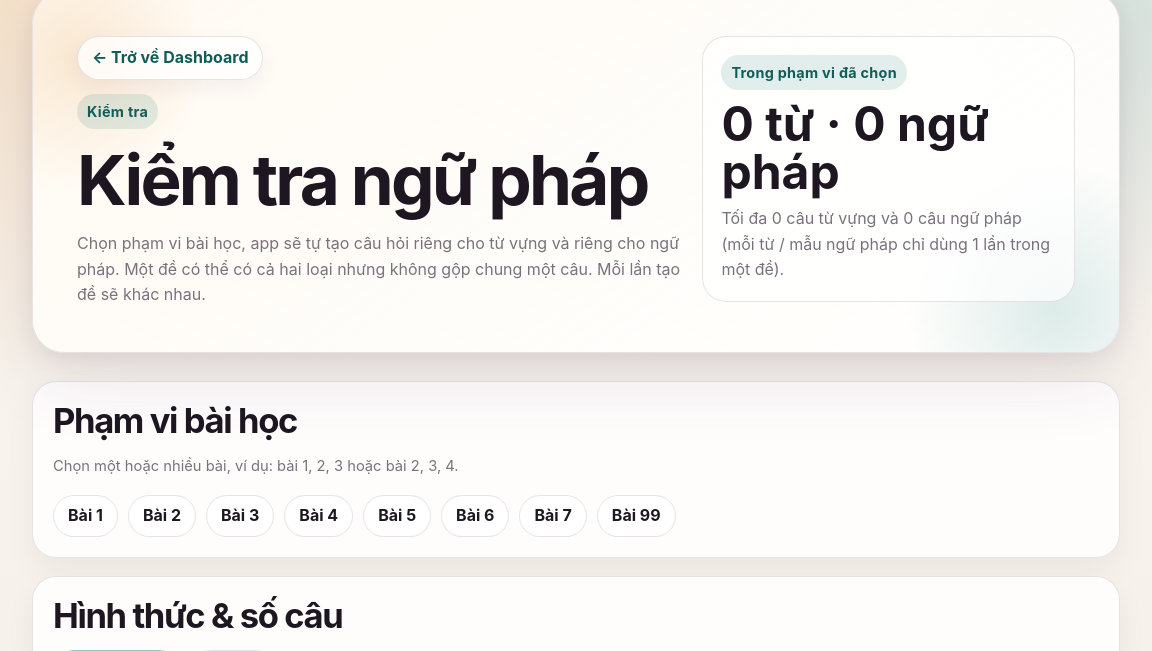
Test: GrammarExamPage — chọn phạm vi › hiện số từ vựng và ngữ pháp có trong phạm vi đã chọn
What coordinates should you click on to do the following:
click the button "Bài 99"
I would click on:
 (636, 516)
Its box is [597,495,676,537].
(page scrolled)
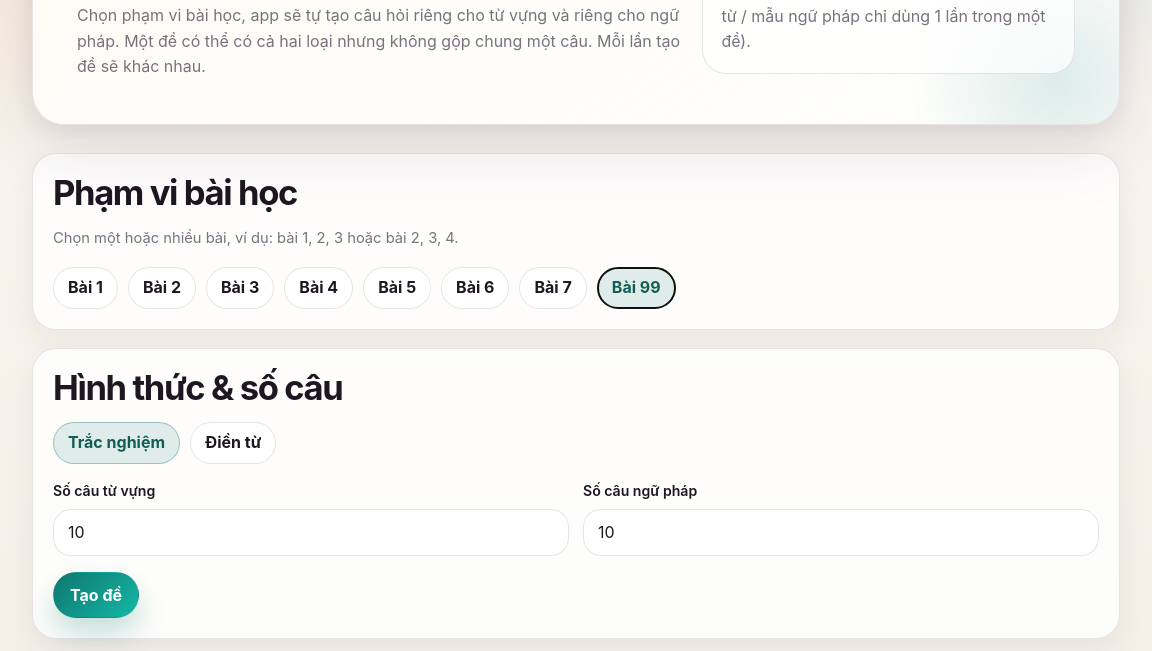
Check: the button "Tạo đề" is enabled, box [53,572,139,618]
